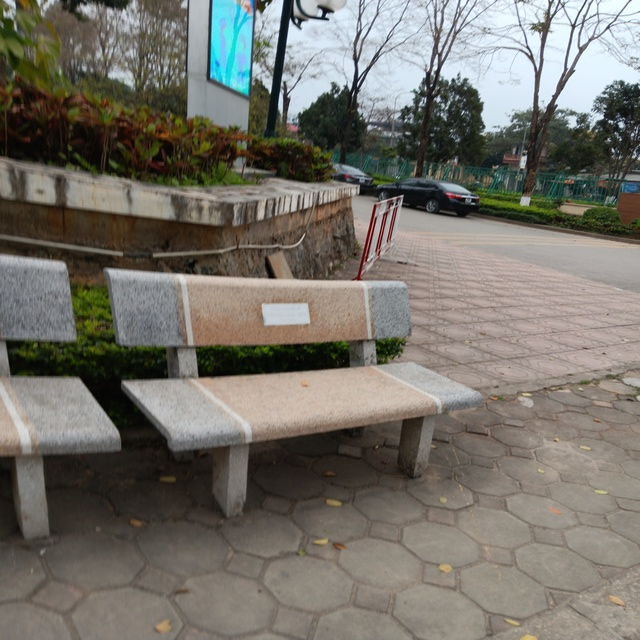gheda: (85, 253, 482, 505), (1, 239, 121, 548)
